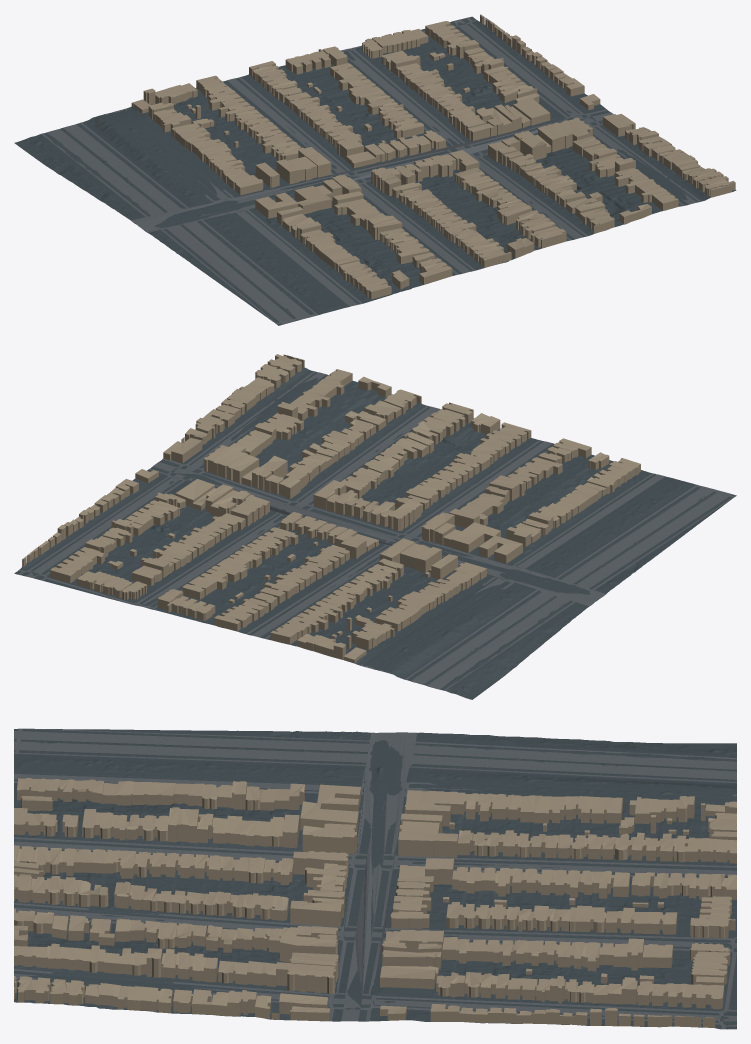
Rendered from epsg26910-1418-10878.lod0.glb.
3 views of the same model, one above another, from view 1: azimuth 30°, elevation 25°; view 2: azimuth 150°, elevation 25°; view 3: azimuth 270°, elevation 25° (orthographic). The views are drawn at different scales.
Visible parts, largest first — view 1: epsg26910-1418-10878-lod0; view 2: epsg26910-1418-10878-lod0; view 3: epsg26910-1418-10878-lod0.
Boxes of the visible parts, x1,y1,x2,y2 form: epsg26910-1418-10878-lod0: (14, 14, 736, 325); epsg26910-1418-10878-lod0: (14, 354, 736, 699); epsg26910-1418-10878-lod0: (14, 728, 736, 1029).
Size of the model in its own units: 384 by 33.26 by 384.
